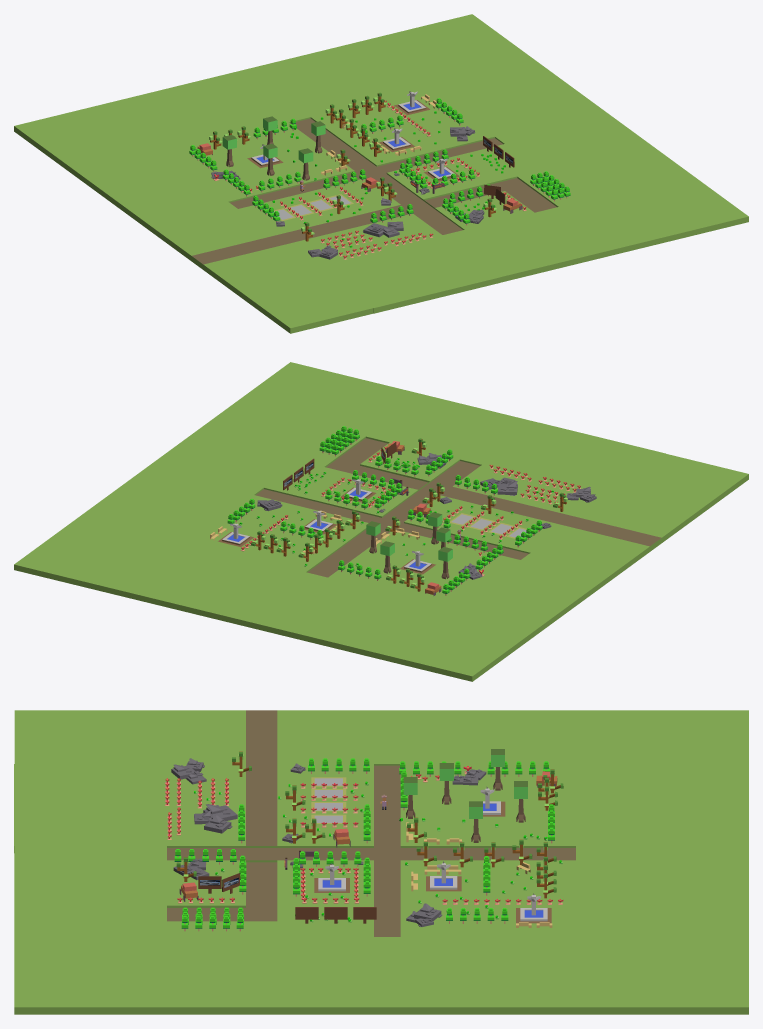
The model's file is prj2_final_model.glb.
The picture shows the model from 3 angles, top to bottom: view 1: azimuth 30°, elevation 25°; view 2: azimuth 150°, elevation 25°; view 3: azimuth 270°, elevation 25°; orthographic projection. The views are drawn at different scales.
Visible parts, largest first — view 1: Ground; view 2: Ground; view 3: Ground.
Part boxes in pixels (x1=…): Ground: x1=14, y1=14, x2=748, y2=333; Ground: x1=14, y1=362, x2=748, y2=681; Ground: x1=14, y1=710, x2=748, y2=1014.
Size of what is drawn, in the model's own units: 275 by 19.09 by 288.
Materials: 36 (1 with a texture image).
